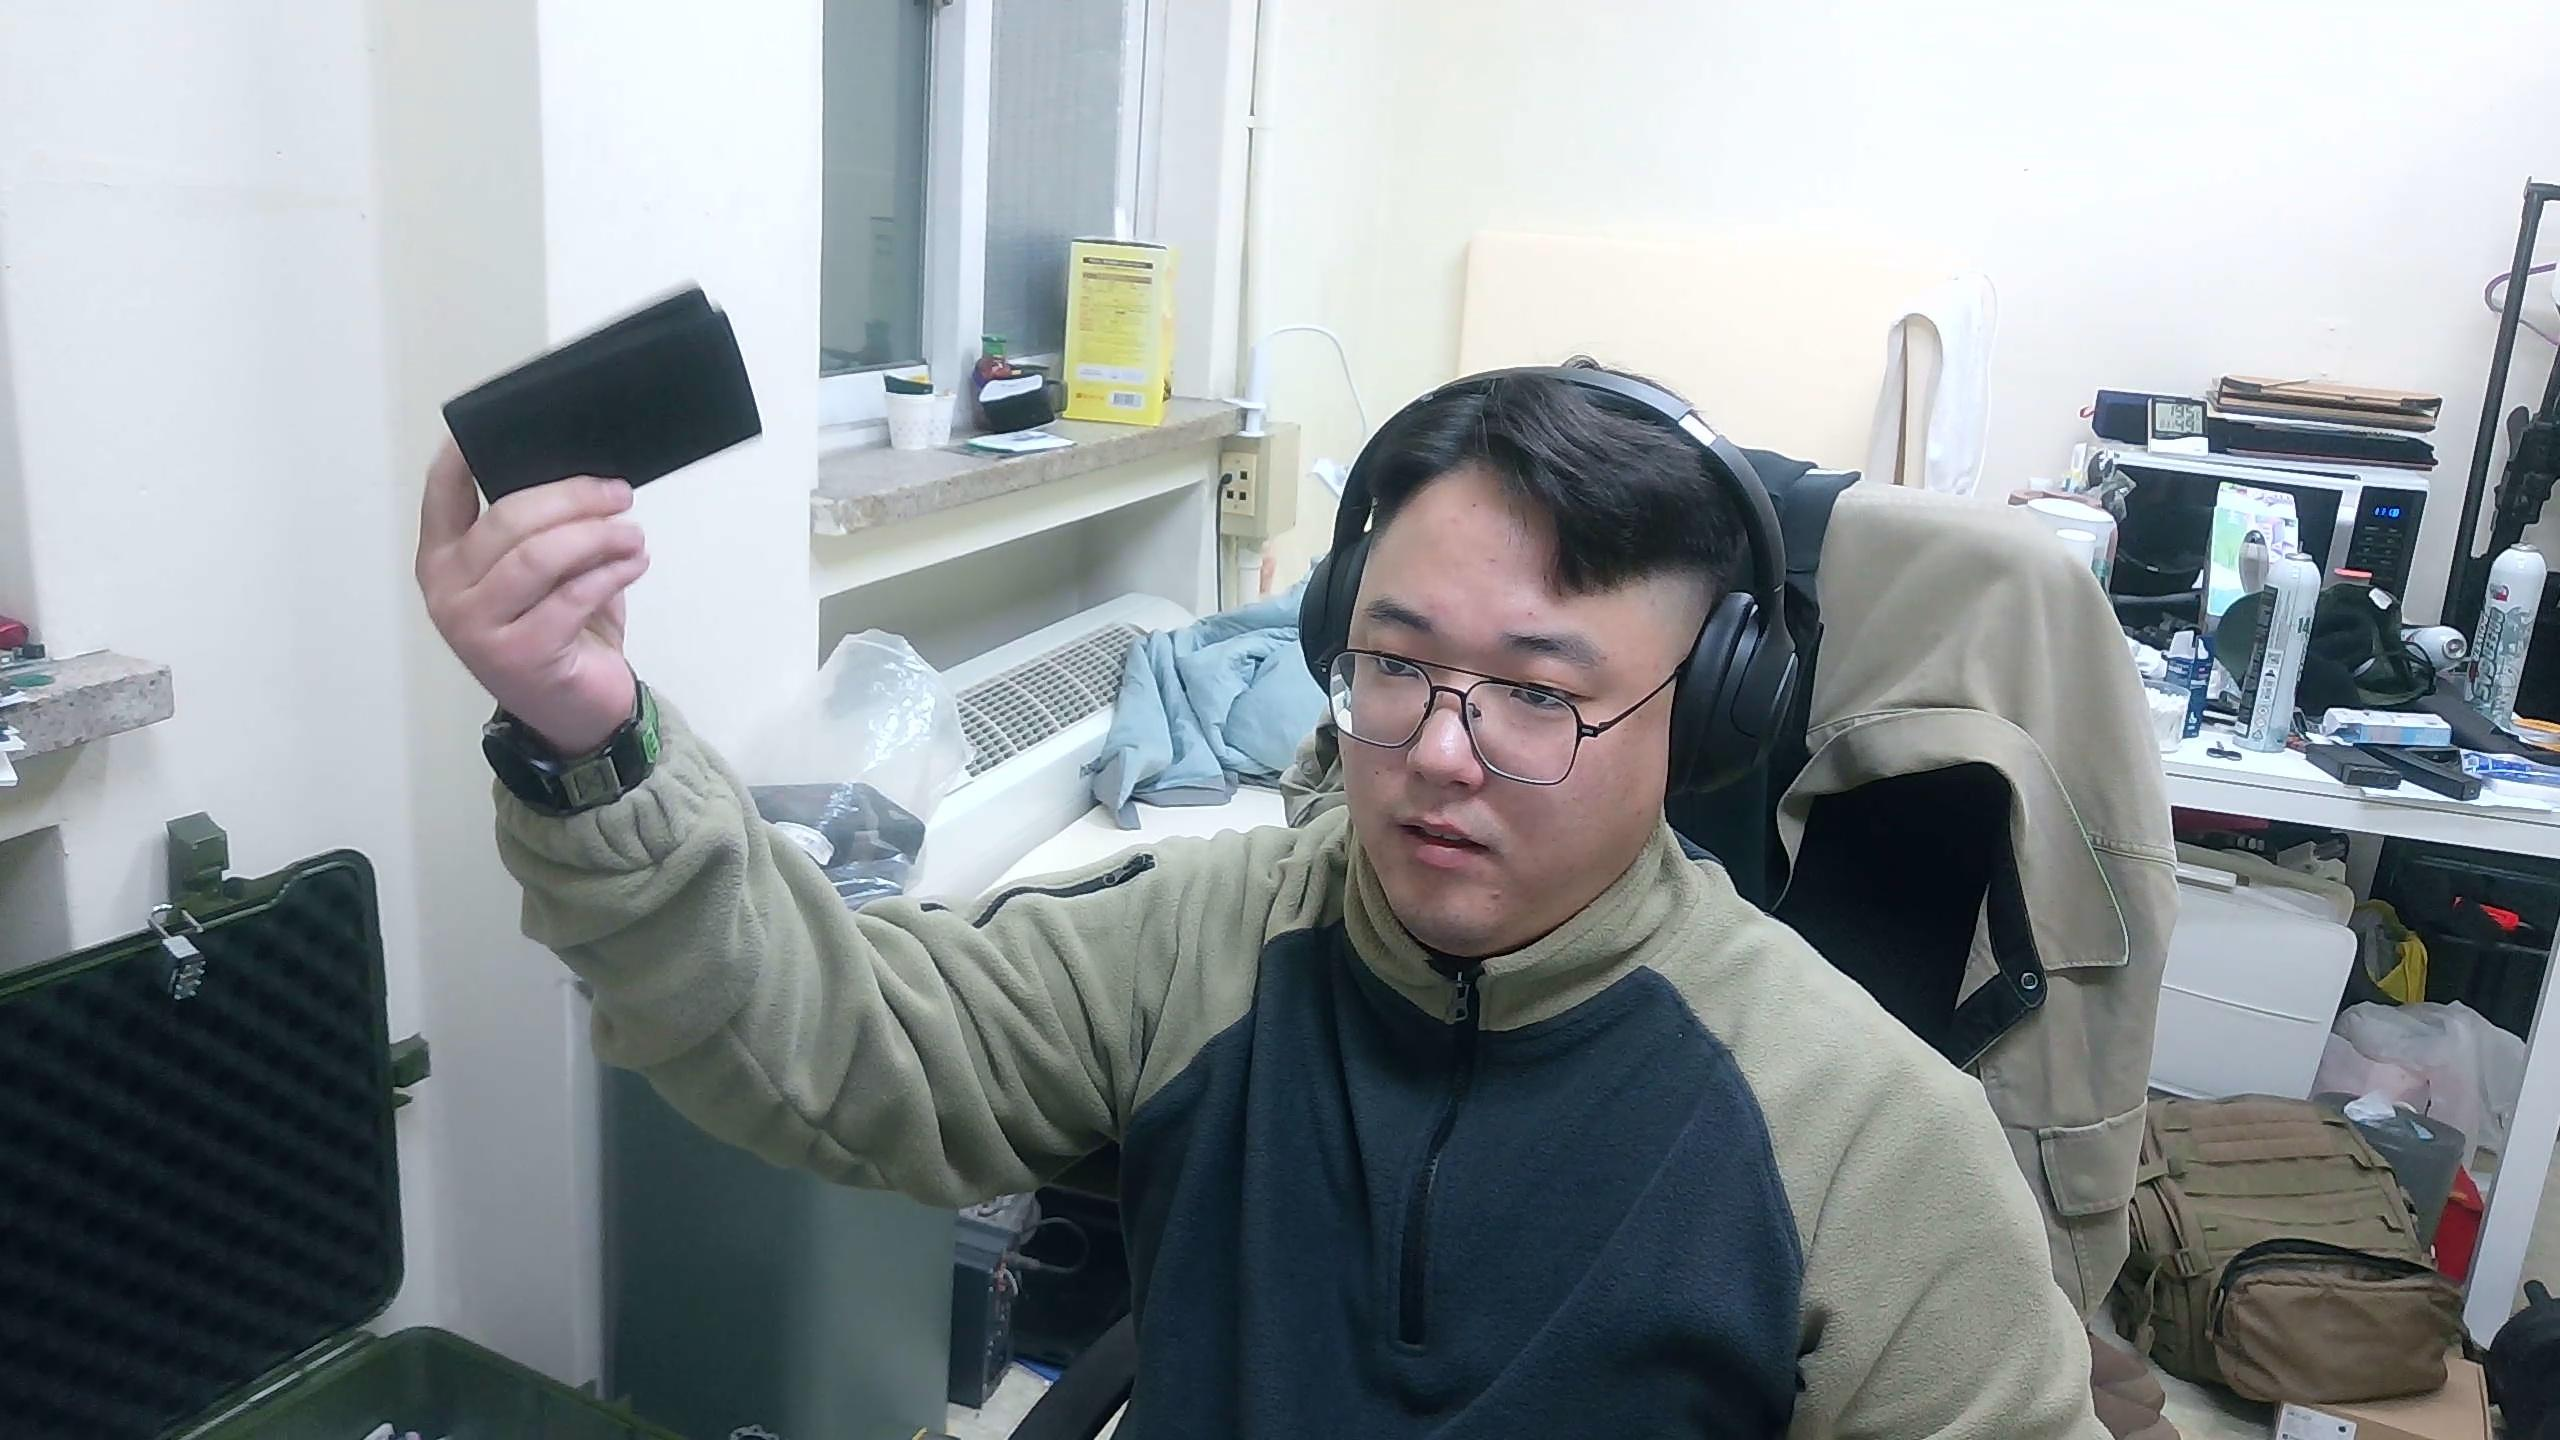Wallet: (441, 280, 767, 510)
